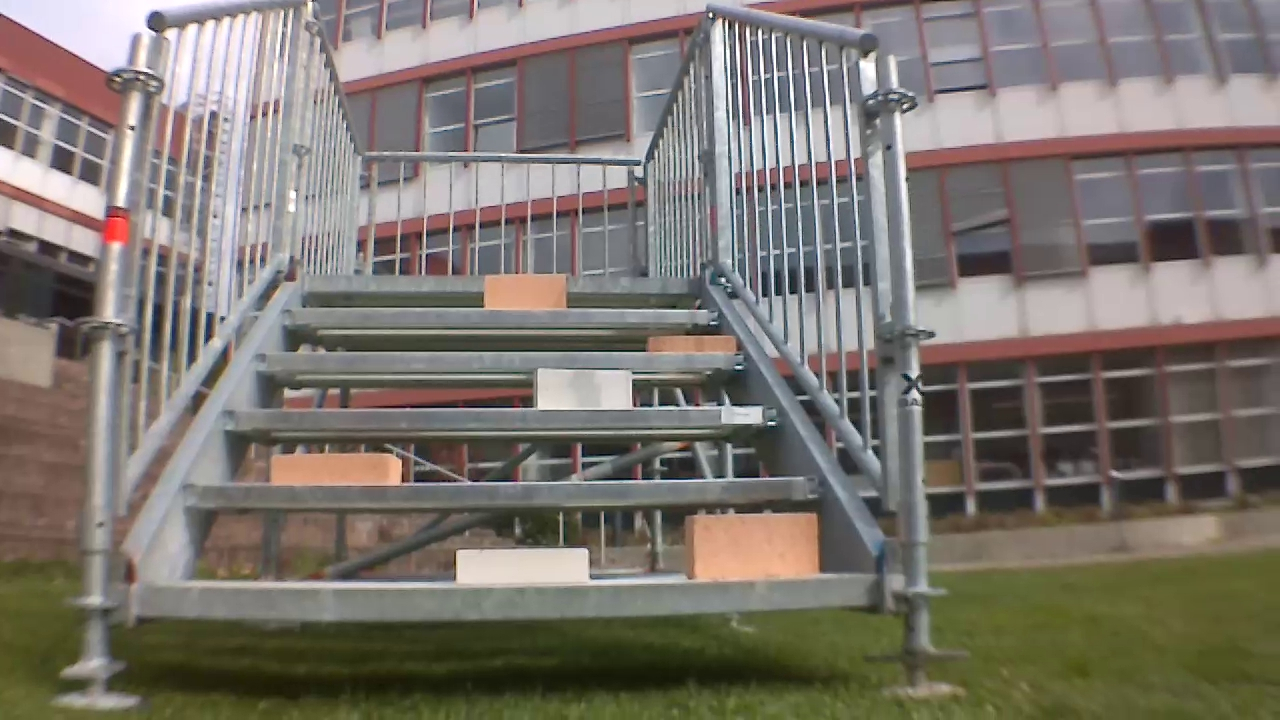brick: (686, 513, 824, 576), (456, 544, 594, 585), (268, 453, 406, 484), (533, 369, 634, 407), (478, 273, 570, 308), (644, 338, 739, 355)
edge: (138, 574, 889, 611), (185, 476, 834, 507), (220, 402, 784, 436), (254, 348, 751, 375), (288, 307, 725, 330), (299, 277, 706, 293)
stairs: (89, 0, 925, 648)
steps: (119, 273, 887, 612)
